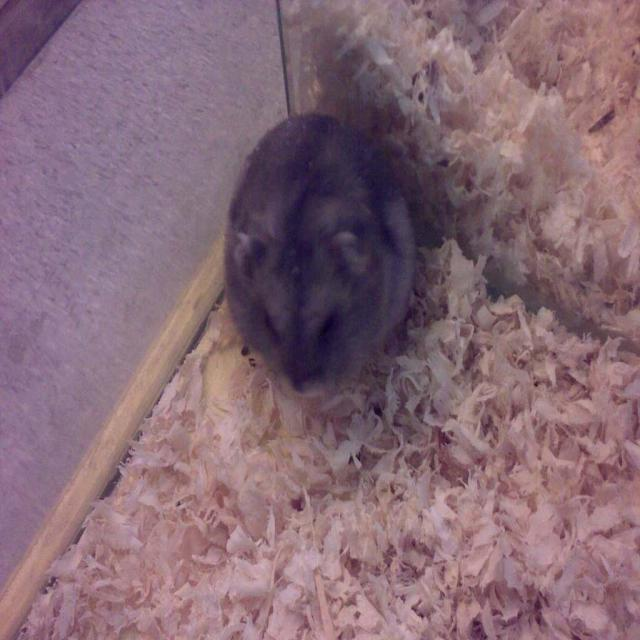rat: (222, 112, 424, 396)
